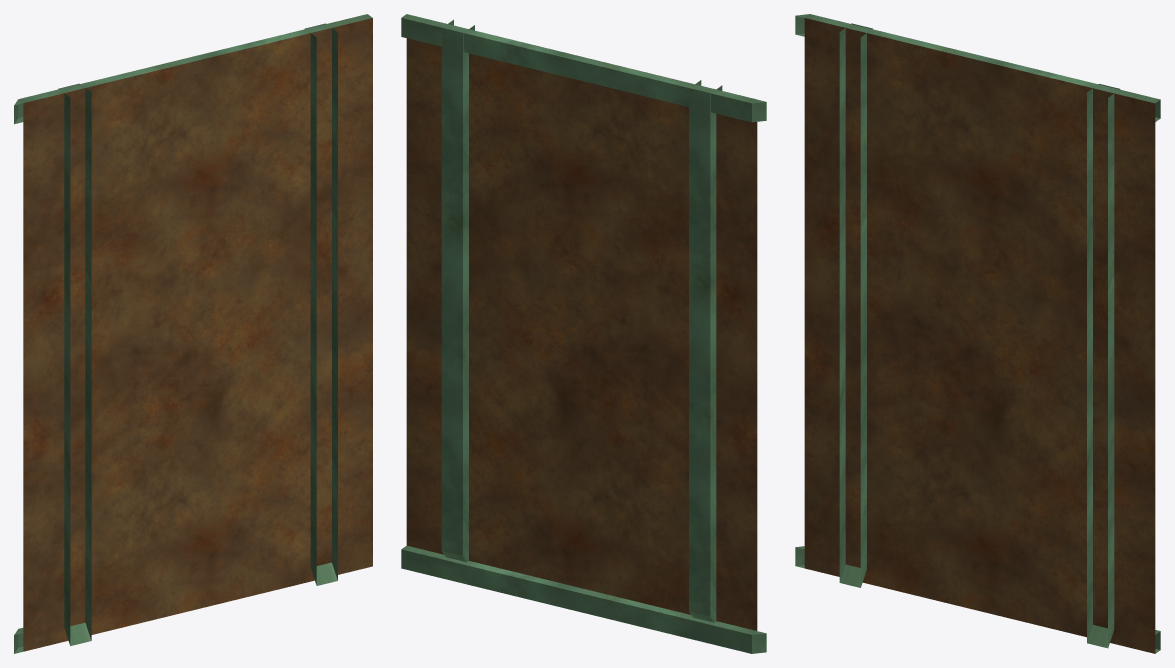
File: Wall2_MidShip_Corner1.FBX
3 views of the same model, side by side, from view 1: azimuth 30°, elevation 25°; view 2: azimuth 150°, elevation 25°; view 3: azimuth 330°, elevation 25° (orthographic).
Parts seen in each view (by area): view 1: Object019; view 2: Object019; view 3: Object019.
Boxes of the visible parts, <box> form: Object019: <box>14,14,372,653</box>; Object019: <box>401,14,766,653</box>; Object019: <box>795,14,1160,653</box>.
Size of the model in its own units: 205 by 300 by 12.01.
